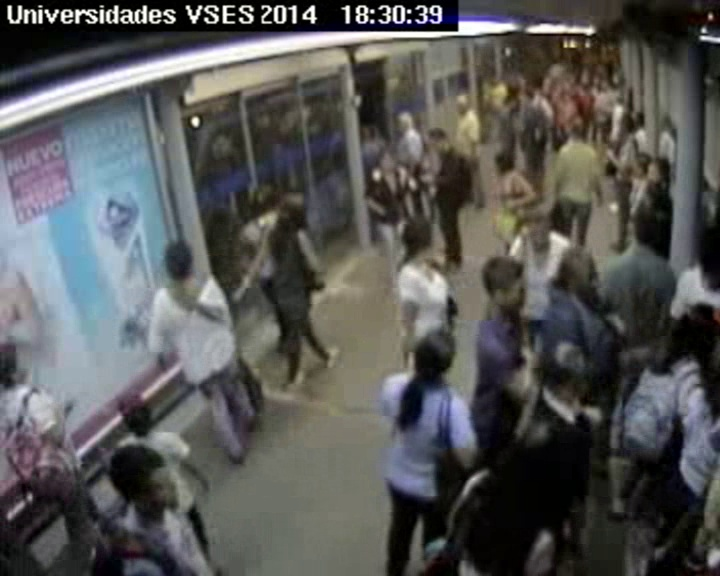person: (109, 445, 184, 522), (491, 441, 547, 500), (482, 257, 527, 310), (677, 303, 720, 356), (559, 249, 605, 296), (623, 286, 664, 332), (416, 333, 457, 378), (546, 359, 582, 404), (401, 221, 439, 262), (1, 345, 32, 389), (162, 242, 196, 280), (632, 209, 662, 244), (279, 190, 308, 225), (122, 404, 152, 437), (526, 218, 553, 248), (249, 182, 274, 211), (553, 197, 578, 226), (376, 146, 400, 171), (427, 126, 450, 152), (564, 115, 587, 141), (647, 159, 669, 184), (495, 151, 516, 173), (524, 76, 543, 96), (633, 154, 651, 175), (617, 114, 635, 133), (394, 112, 412, 130), (455, 94, 472, 112), (506, 81, 521, 97), (549, 64, 564, 79), (505, 96, 519, 112), (632, 112, 646, 128), (578, 67, 591, 81), (612, 93, 624, 105), (503, 60, 514, 72), (490, 75, 501, 86), (598, 63, 609, 74), (571, 52, 582, 63), (592, 75, 602, 86), (559, 52, 568, 62)
